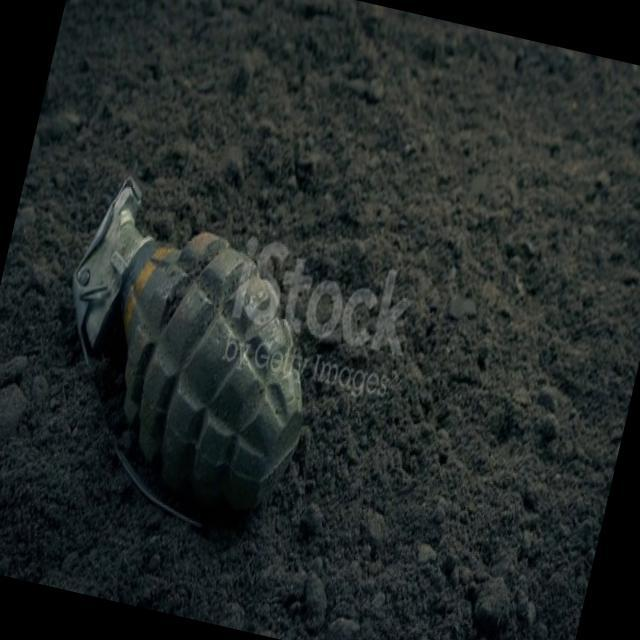grenade: (18, 168, 356, 560)
